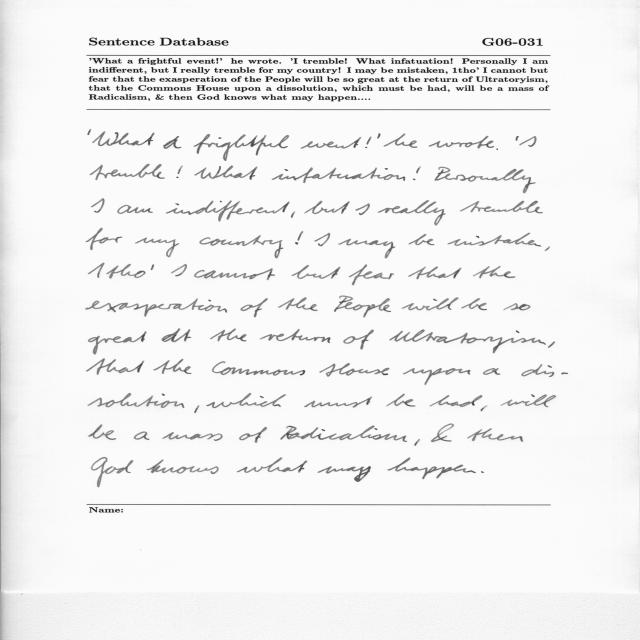word: (389, 329, 546, 353), (166, 200, 290, 222), (435, 167, 536, 194), (86, 298, 227, 317), (194, 134, 290, 161), (281, 425, 408, 442), (272, 167, 405, 183), (387, 458, 476, 480), (200, 235, 284, 258), (378, 200, 446, 226), (88, 393, 184, 408), (212, 361, 305, 376), (89, 331, 147, 355), (448, 233, 542, 247), (92, 458, 134, 488), (90, 164, 165, 180), (206, 393, 286, 408), (334, 296, 391, 317), (338, 239, 395, 259), (403, 368, 470, 385), (237, 457, 307, 473), (146, 459, 219, 474), (460, 201, 543, 214), (88, 263, 154, 279), (87, 358, 145, 375), (260, 329, 330, 343), (320, 363, 390, 377), (194, 268, 275, 280), (92, 131, 155, 146), (195, 165, 258, 180), (349, 264, 394, 285), (135, 238, 179, 258), (318, 466, 371, 482), (402, 297, 459, 311), (86, 228, 122, 250), (467, 428, 523, 442), (429, 136, 494, 148), (304, 397, 372, 408), (301, 137, 362, 149), (500, 394, 556, 407), (408, 267, 462, 280), (292, 265, 341, 279), (430, 395, 483, 407), (343, 330, 374, 350), (521, 364, 568, 377), (304, 201, 350, 214), (153, 359, 192, 374), (278, 297, 318, 311), (162, 432, 223, 441), (240, 298, 268, 317), (384, 133, 418, 148), (473, 266, 515, 278), (239, 427, 267, 443), (210, 329, 246, 341), (89, 424, 116, 440), (431, 424, 454, 442), (386, 394, 416, 407), (162, 329, 191, 342), (117, 205, 153, 214), (461, 298, 487, 310), (408, 234, 434, 245), (163, 136, 182, 149), (314, 233, 330, 246), (519, 136, 537, 147), (92, 198, 105, 213), (171, 264, 187, 276), (504, 303, 531, 310), (355, 203, 370, 215), (134, 431, 149, 440), (483, 368, 500, 375), (413, 166, 421, 180), (295, 231, 303, 245), (176, 166, 183, 178), (365, 137, 372, 148), (548, 341, 555, 348), (481, 406, 488, 412), (414, 439, 420, 446), (195, 405, 200, 413), (291, 211, 295, 218), (545, 246, 550, 251), (515, 136, 519, 141), (88, 130, 91, 135), (377, 134, 380, 139), (481, 471, 484, 473), (496, 148, 498, 150)
